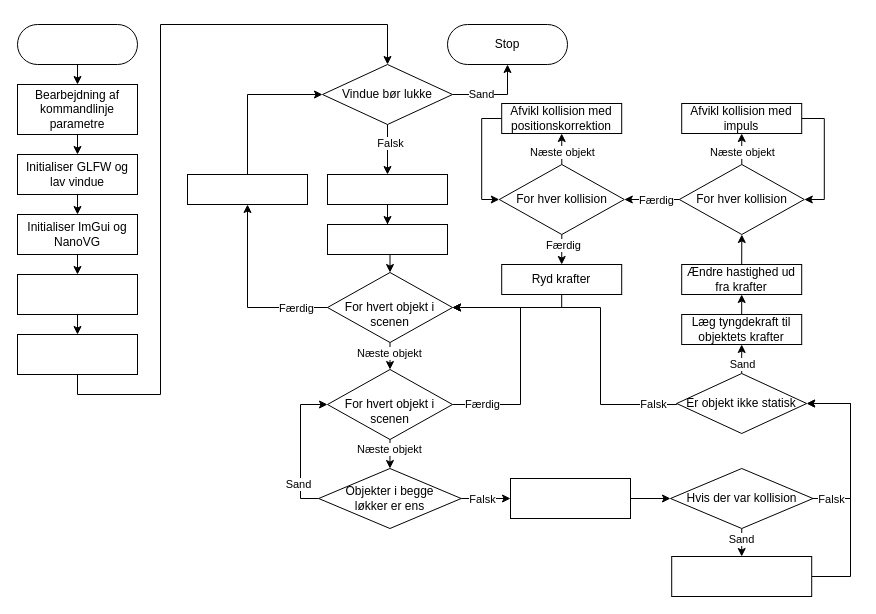
The diagram is 876 pixels wide and 614 high, and some of its shapes have lost their labels. The box of each missing label's shape, as (x1, y1, x2, y2) in pixels:
Beregn kollisionsmanifold mellem objekter: (510, 478, 630, 518)
Forbered ImGui: (326, 224, 448, 254)
Indlæs skrifttyper: (16, 274, 138, 314)
Indsæt 2 linjer i scenen: (16, 334, 138, 374)
Indsæt manifold i liste og sæt objektfarve til rød: (671, 556, 812, 596)
Ryd skærm: (326, 174, 448, 204)
Start: (16, 24, 138, 64)
Tegn skærm: (186, 174, 308, 204)
